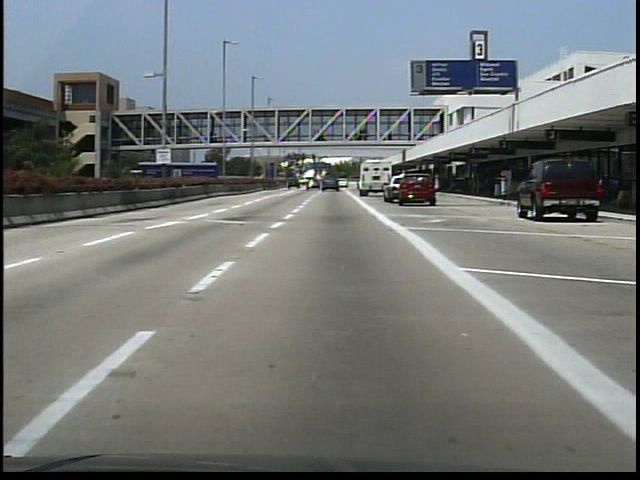person: (424, 173, 441, 205)
